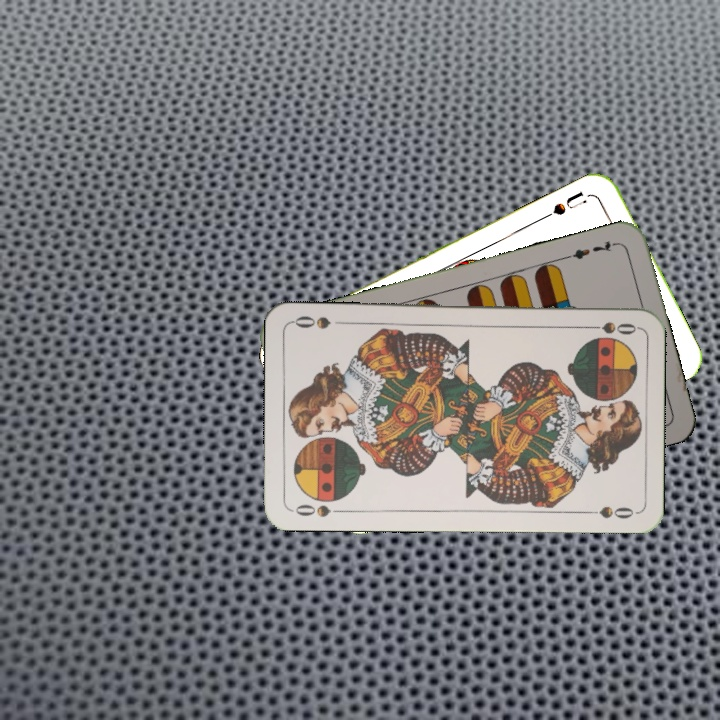E7: (562, 237, 621, 262)
SO: (580, 318, 639, 337), (288, 500, 347, 519)
SU: (540, 187, 589, 222)
